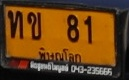txt02: (26, 10, 43, 41)
txt18: (6, 9, 25, 40)
